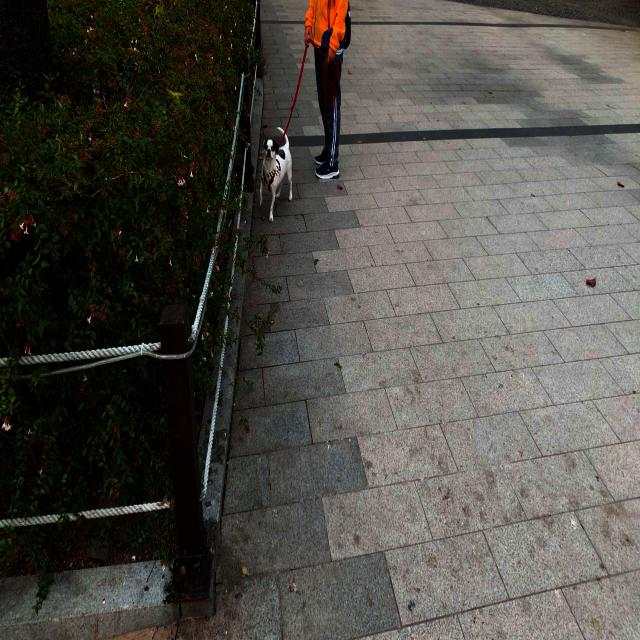Leashed_Dog: (258, 27, 330, 222)
